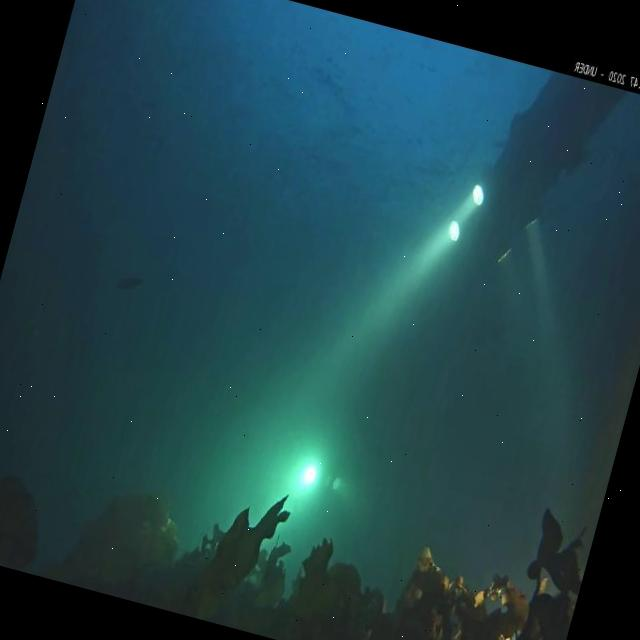fish: (114, 266, 146, 298)
